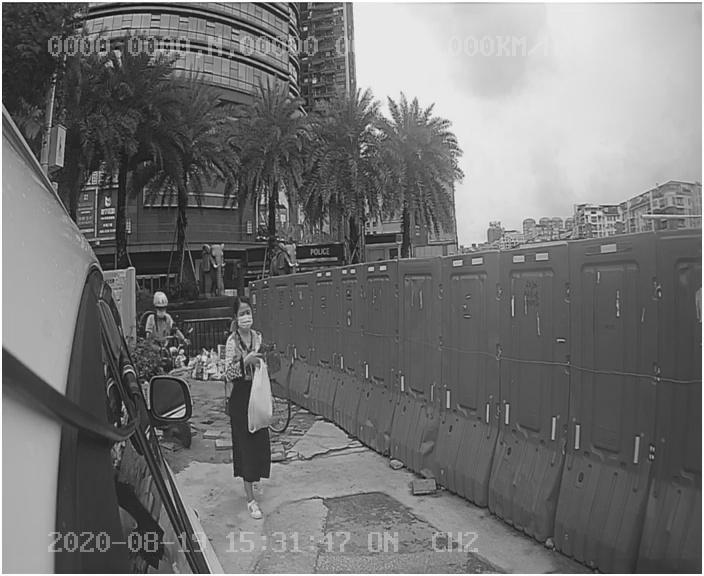person: (215, 300, 290, 526)
